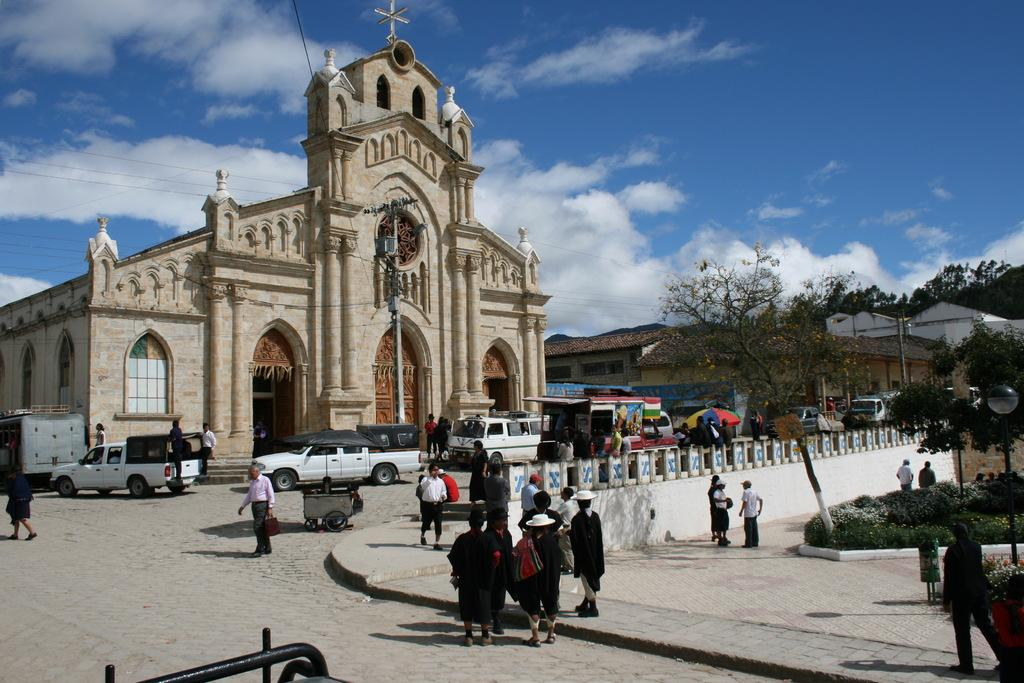Truck: (521, 388, 678, 477), (246, 440, 425, 495), (47, 440, 188, 502), (3, 403, 84, 488), (767, 406, 845, 445), (846, 391, 905, 426)
